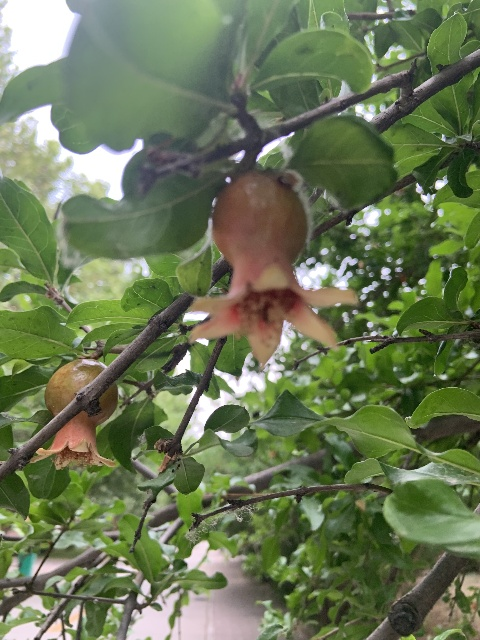early-fruit: (186, 171, 357, 370), (29, 358, 120, 472)
